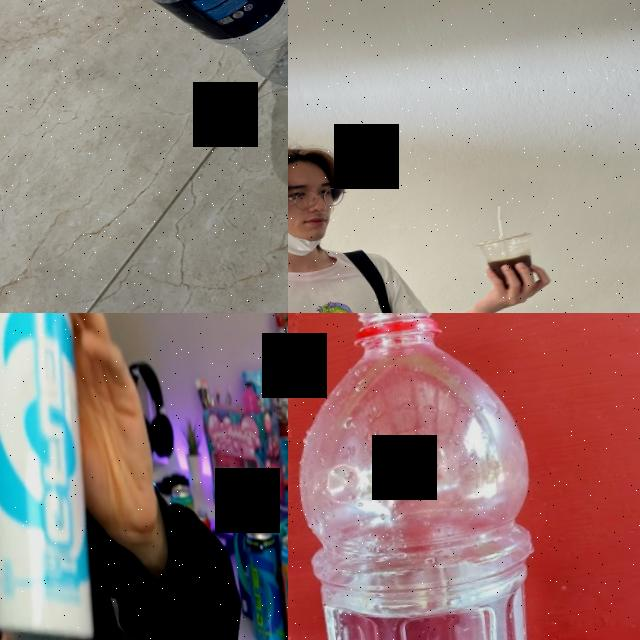bottle: (288, 313, 579, 640), (68, 0, 288, 125)
can: (0, 313, 116, 640)
cup: (476, 230, 542, 296)
